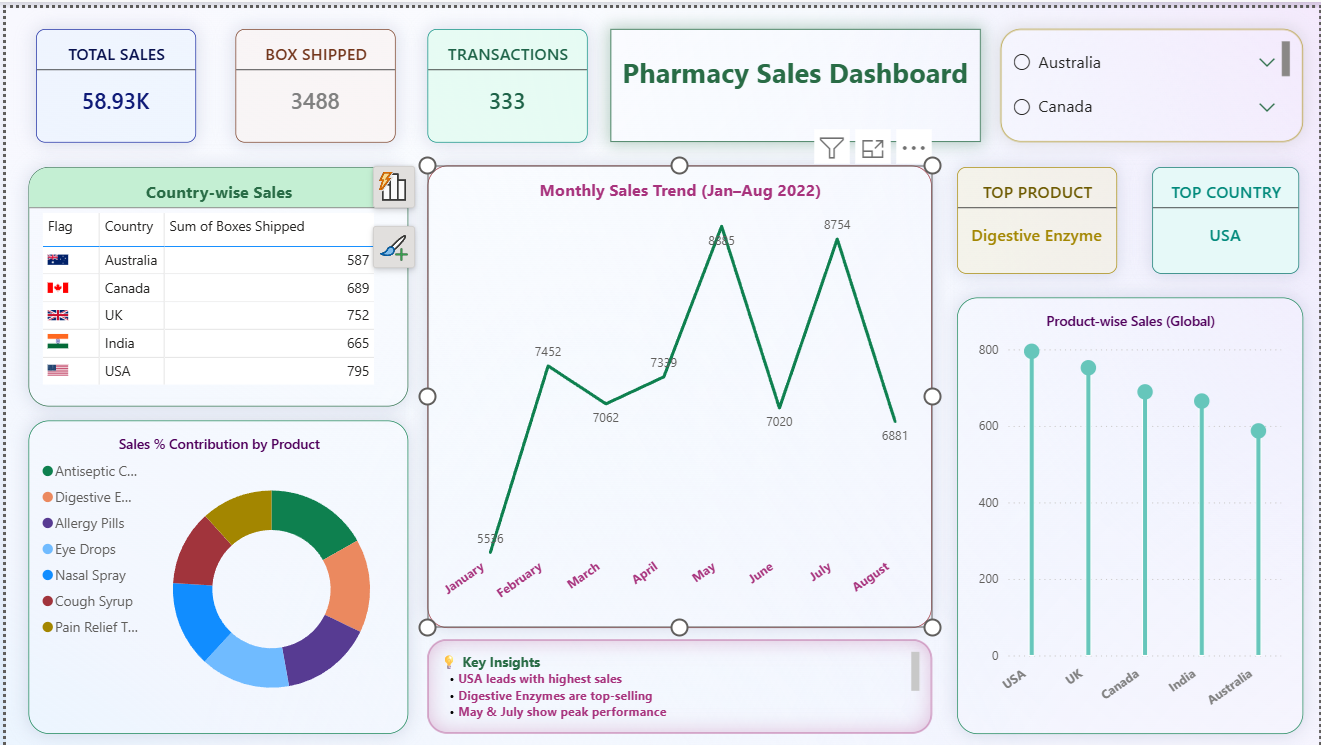

Layout of this report page (visuals, bound fields, positions):
{"tool":"powerbi","page":{"name":"Executive Summary","canvas":[1280,720],"ordinal":0},"visuals":[{"type":"card","title":"TOTAL SALES","fields":{"Values":["pharmacy_otc_sales_data.Total Sales"]},"box":[28.7,20.5,155.9,110.8],"z":0},{"type":"card","title":"BOX SHIPPED","fields":{"Values":["pharmacy_otc_sales_data.Total Box Shipped"]},"box":[223.6,20.5,155.9,110.8],"z":1000},{"type":"card","title":"TRANSACTIONS","fields":{"Values":["pharmacy_otc_sales_data.Total Transaction"]},"box":[410.3,20.5,155.9,110.8],"z":2000},{"type":"card","title":"TOP PRODUCT","fields":{"Values":["pharmacy_otc_sales_data.Top Product"]},"box":[592.8,20.5,155.9,110.8],"z":3000},{"type":"card","title":"TOP COUNTRY","fields":{"Values":["pharmacy_otc_sales_data.Top Country"]},"box":[781.5,20.5,143.6,110.8],"z":4000},{"type":"lineChart","fields":{"Category":["pharmacy_otc_sales_data.Date.Variation.Date Hierarchy.Month"],"Y":["pharmacy_otc_sales_data.Total Sales"]},"box":[184.3,153.9,704.8,328.1],"z":5000},{"type":"lineChart","title":"Total Sales of Product","fields":{"Category":["pharmacy_otc_sales_data.Country"],"Y":["pharmacy_otc_sales_data.Total Units"]},"box":[925.6,271.4,338.2,435.4],"z":6000},{"type":"donutChart","title":" Sales % Contribution by Product","fields":{"Category":["pharmacy_otc_sales_data.Product"],"Y":["Count(pharmacy_otc_sales_data.Sales %)"]},"box":[939.7,20.3,324.1,234.9],"z":7000},{"type":"tableEx","fields":{"Values":["pharmacy_otc_sales_data.Product","Sum(pharmacy_otc_sales_data.Boxes Shipped)","pharmacy_otc_sales_data.Sales Person","Sum(pharmacy_otc_sales_data.Amount ($))","pharmacy_otc_sales_data.Month","Sum(pharmacy_otc_sales_data.Sales %)"]},"box":[28.4,500.3,860.8,220.8],"z":8000},{"type":"listSlicer","fields":{"Values":["pharmacy_otc_sales_data.Country","pharmacy_otc_sales_data.Product","pharmacy_otc_sales_data.Sales Person","pharmacy_otc_sales_data.Month","pharmacy_otc_sales_data.Quater"]},"box":[28.4,153.9,125.6,328.1],"z":9000}]}

Visuals, with their boxes in screenshot pixels (x1, y1, x2, y2), scaled from the page's 1280x720 canvas onto the 1321x745 screenshot:
"TOTAL SALES" card: [x1=30, y1=21, x2=191, y2=136]
"BOX SHIPPED" card: [x1=231, y1=21, x2=392, y2=136]
"TRANSACTIONS" card: [x1=423, y1=21, x2=584, y2=136]
"TOP PRODUCT" card: [x1=612, y1=21, x2=773, y2=136]
"TOP COUNTRY" card: [x1=807, y1=21, x2=955, y2=136]
lineChart - pharmacy_otc_sales_data.Date.Variation.Date Hierarchy.Month x pharmacy_otc_sales_data.Total Sales: [x1=190, y1=159, x2=918, y2=499]
"Total Sales of Product" lineChart: [x1=955, y1=281, x2=1304, y2=731]
" Sales % Contribution by Product" donutChart: [x1=970, y1=21, x2=1304, y2=264]
tableEx - pharmacy_otc_sales_data.Product x Sum(pharmacy_otc_sales_data.Boxes Shipped): [x1=29, y1=518, x2=918, y2=744]
listSlicer - pharmacy_otc_sales_data.Country x pharmacy_otc_sales_data.Product: [x1=29, y1=159, x2=159, y2=499]
